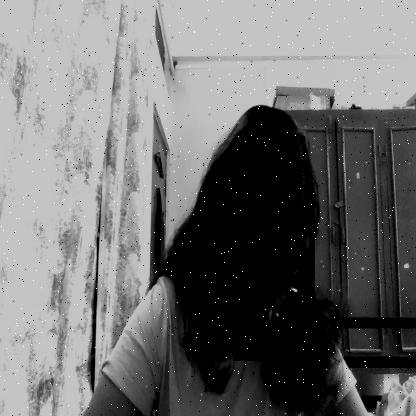Distracted: (233, 202, 315, 361)
